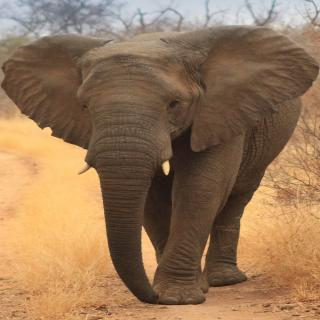Elephant: (6, 22, 318, 308)
